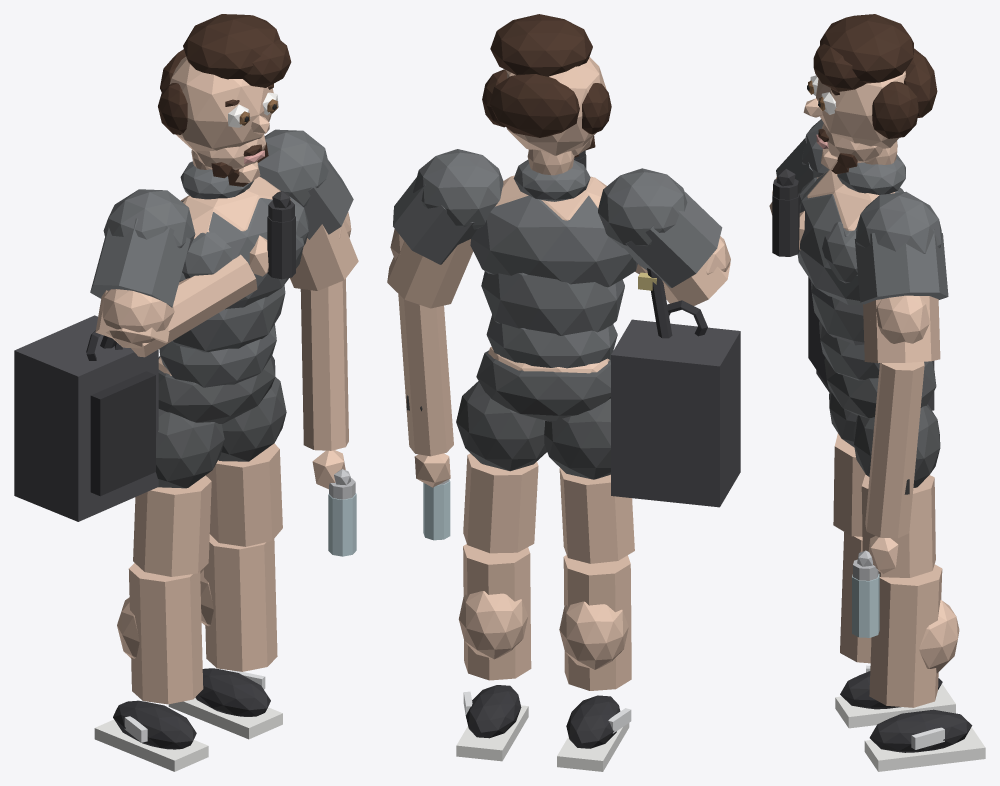
The model's file is gym_bro.glb.
The picture shows the model from 3 angles, left to right: view 1: azimuth 30°, elevation 25°; view 2: azimuth 150°, elevation 25°; view 3: azimuth 270°, elevation 25°; orthographic projection. The views are drawn at different scales.
Visible parts, largest first — view 1: Bag, CalfR, CalfL, ArmLL, BagPanel, ThighR, ThighL, Head, SleeveR, HairTop, ShortsHips, ShortsR (+26 smaller); view 2: Bag, ShirtChest, ShirtMid, ArmLL, ThighL, ShortsHips, ThighR, CalfR, CalfL, ShortsL, ShirtDelR, ShirtDelL (+24 smaller); view 3: ArmLL, CalfL, SleeveL, HairTop, ShirtDelL, ShirtChest, ThighL, Head, ArmLU, ShoeL, ThighR, ShortsL (+27 smaller).
Boxes of the visible parts, x1,y1,x2,y2 form: Bag: [14, 315, 158, 521]; CalfR: [128, 563, 203, 704]; CalfL: [204, 534, 277, 671]; ArmLL: [300, 278, 348, 450]; BagPanel: [90, 371, 155, 496]; ThighR: [133, 475, 211, 576]; ThighL: [206, 443, 282, 546]; Head: [169, 56, 273, 153]; SleeveR: [90, 218, 190, 307]; HairTop: [183, 14, 280, 79]; ShortsHips: [158, 355, 275, 423]; ShortsR: [156, 409, 224, 488]; Bag: [611, 319, 740, 507]; ShirtChest: [470, 195, 637, 287]; ShirtMid: [481, 271, 624, 335]; ArmLL: [398, 294, 453, 456]; ThighL: [463, 453, 538, 553]; ShortsHips: [476, 350, 610, 421]; ThighR: [559, 468, 634, 563]; CalfR: [563, 555, 631, 690]; CalfL: [463, 544, 531, 680]; ShortsL: [456, 381, 546, 471]; ShirtDelR: [598, 168, 687, 248]; ShirtDelL: [413, 149, 503, 229]; ArmLL: [865, 361, 924, 538]; CalfL: [869, 564, 942, 707]; SleeveL: [854, 229, 948, 304]; HairTop: [820, 14, 913, 83]; ShirtDelL: [856, 191, 941, 253]; ShirtChest: [797, 171, 903, 305]; ThighL: [861, 475, 935, 577]; Head: [816, 71, 905, 148]; ArmLU: [863, 296, 940, 363]; ShoeL: [869, 709, 972, 752]; ThighR: [833, 433, 865, 536]; ShortsL: [853, 404, 940, 487].
Bounding box in the file's own units: 0.8797 × 1.79 × 0.4843.
